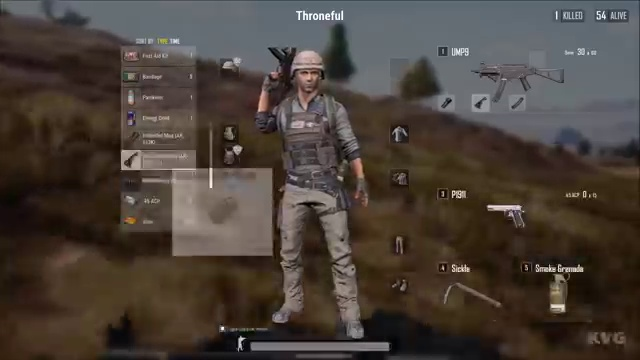Player: (264, 49, 374, 323)
